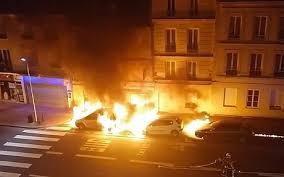fire: (67, 87, 161, 135), (179, 97, 210, 137)
